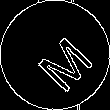M_NW: (21, 21, 89, 89)
